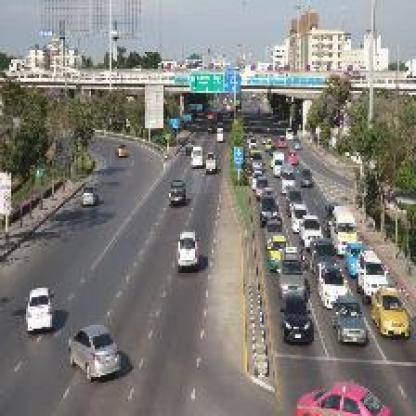other: (356, 273, 410, 336), (294, 381, 392, 412)
